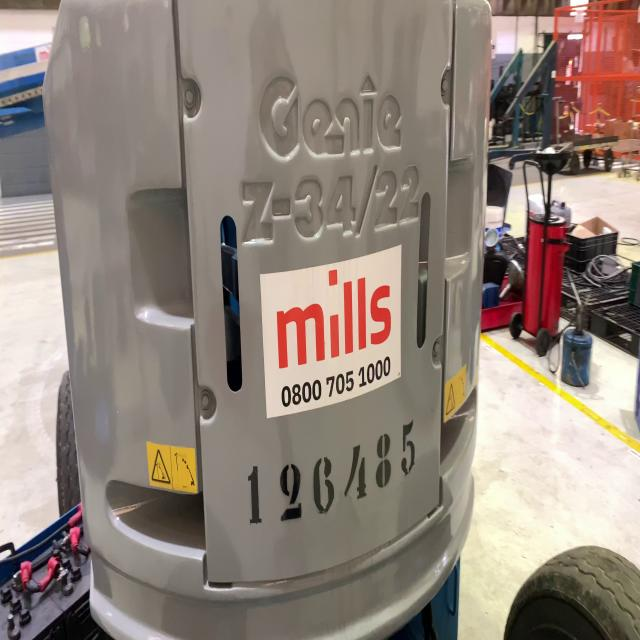Adesivos: (257, 238, 404, 421)
